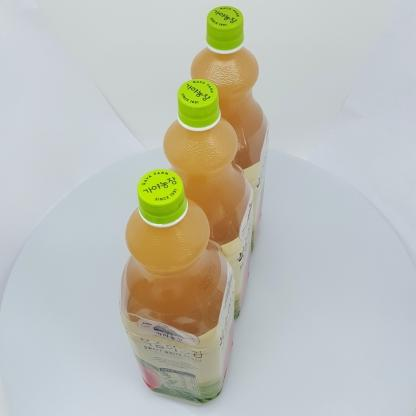-------1-5L: (119, 169, 235, 406)
